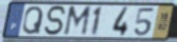1: (91, 5, 106, 38)
4: (111, 5, 130, 38)
5: (132, 6, 156, 38)
M: (62, 5, 93, 38)
Q: (21, 5, 45, 36)
S: (43, 4, 69, 37)
